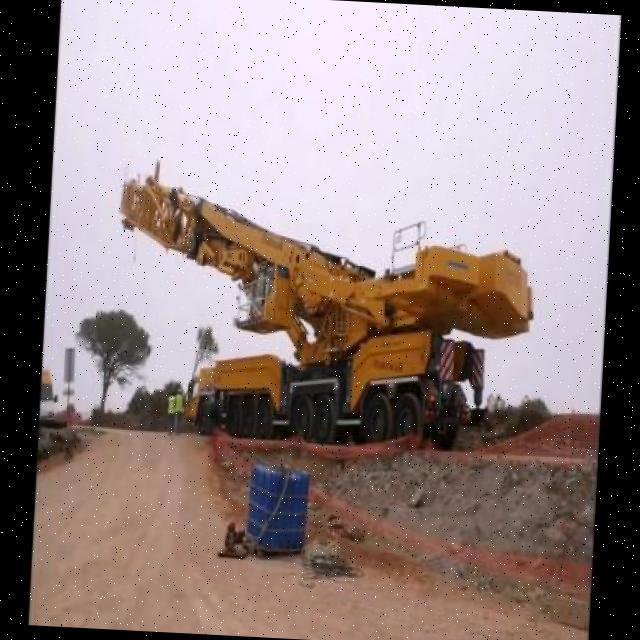Mobile Crane: (106, 168, 540, 452)
